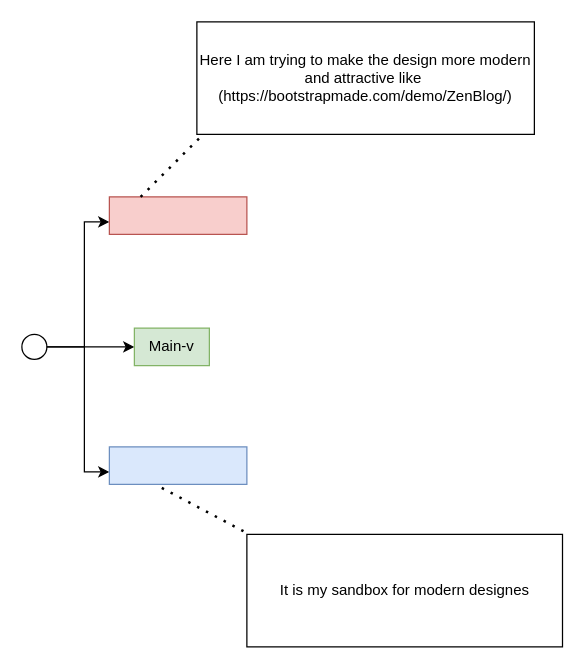
Some shapes in this 585 by 669 pixel diagram are drawn without their labels. Here are the shapes that lost their labels. From the top down, the box of each, then its label:
(108, 196, 247, 234): modern-design-v3
(108, 446, 247, 484): modern-design-v2
